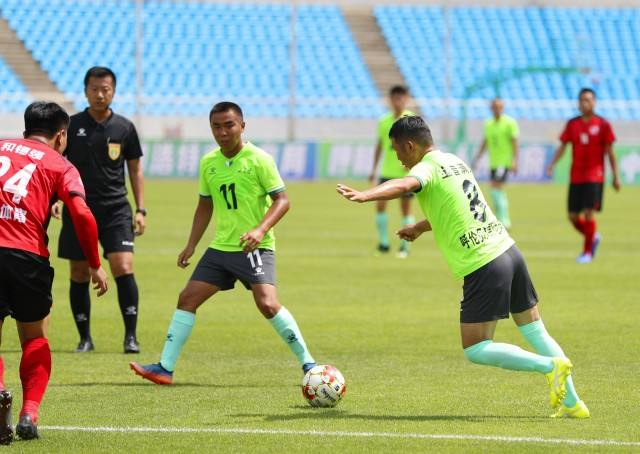football: (301, 364, 347, 411)
